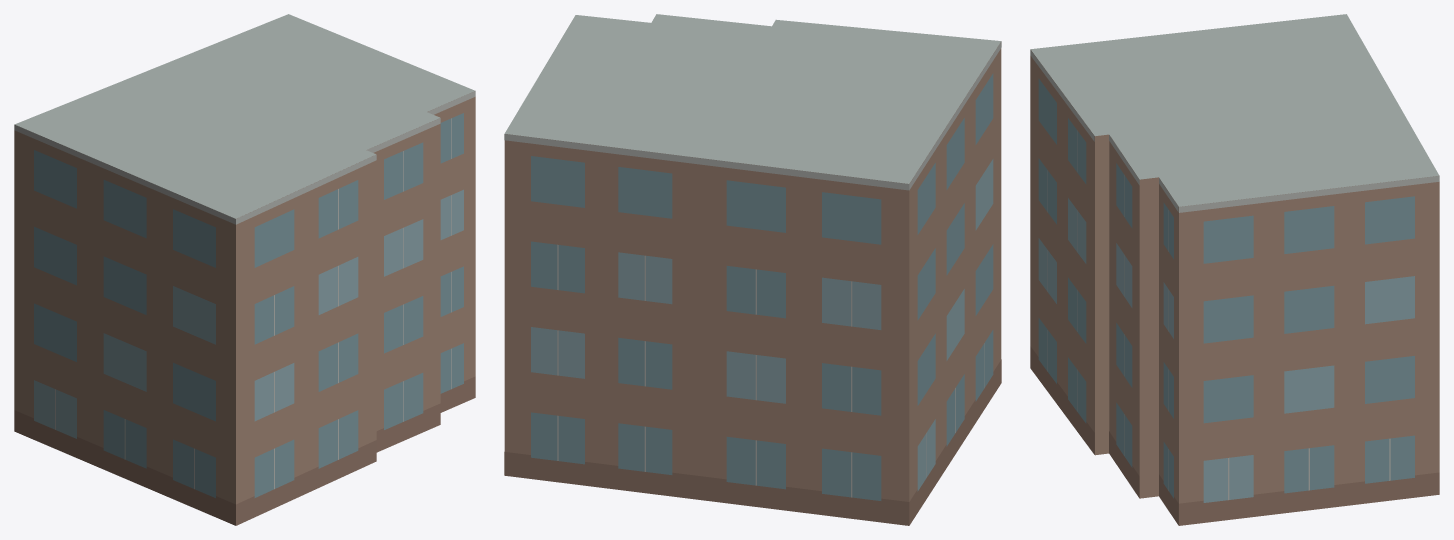
Rendered from survey-upis-32675882.glb.
3 renders of one model, left to right at view 1: azimuth 30°, elevation 25°; view 2: azimuth 150°, elevation 25°; view 3: azimuth 270°, elevation 25°, orthographic. The views are drawn at different scales.
Visible parts, largest first — view 1: survey-upis-32675882.tmp; view 2: survey-upis-32675882.tmp; view 3: survey-upis-32675882.tmp.
Part boxes in pixels (x1,y1,x2,y2): survey-upis-32675882.tmp: (14,14,475,525); survey-upis-32675882.tmp: (504,14,1001,525); survey-upis-32675882.tmp: (1030,14,1439,525).
Size of the model in its own units: 16.61 by 12.8 by 14.89.
